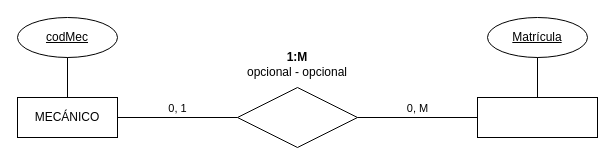
Some shapes in this 615 by 165 pixel diagram are drawn without their labels. Each missing label, with the centre of its shape:
"AUTOMÓVILES" goes at [537,117].
"Reparar" goes at [297,117].
